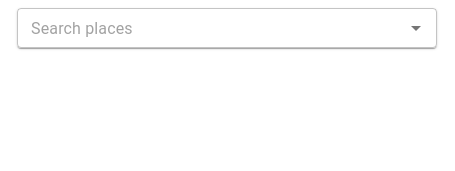
Scenario: SearchBox › asks once after typing stops and shows the suggestions
Step 1. Type "M" into the dropdown labelled "Search places" → (210,28), box [23,14,398,42]
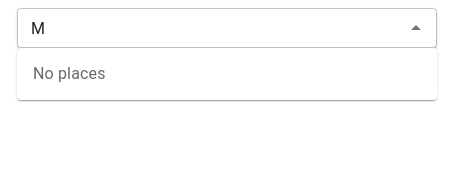
Step 2. Replace the text in the dropdown named "Search places" with "Mi" → (210,28), box [23,14,398,42]
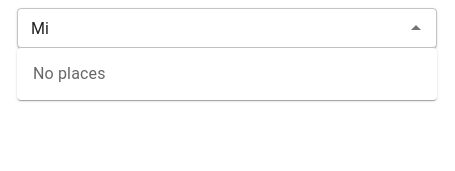
Step 3. Replace the text in the dropdown named "Search places" with "Mis" → (210,28), box [23,14,398,42]
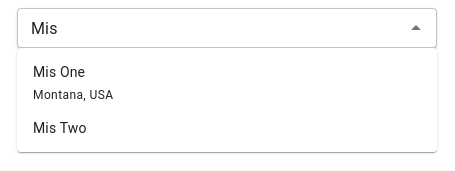
Expected: the text "Mis One" is shown, [33,64,85,80]
Expected: the text "Montana, USA" is shown, [33,88,113,102]
